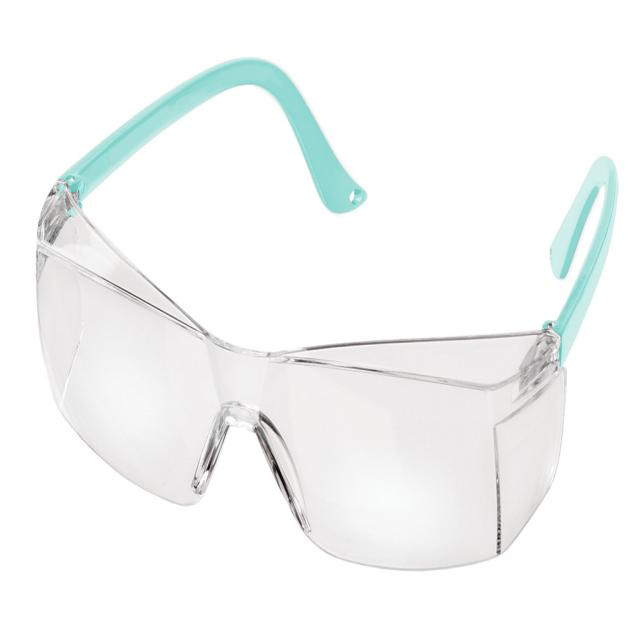Protective Glasses: (1, 5, 640, 625)
